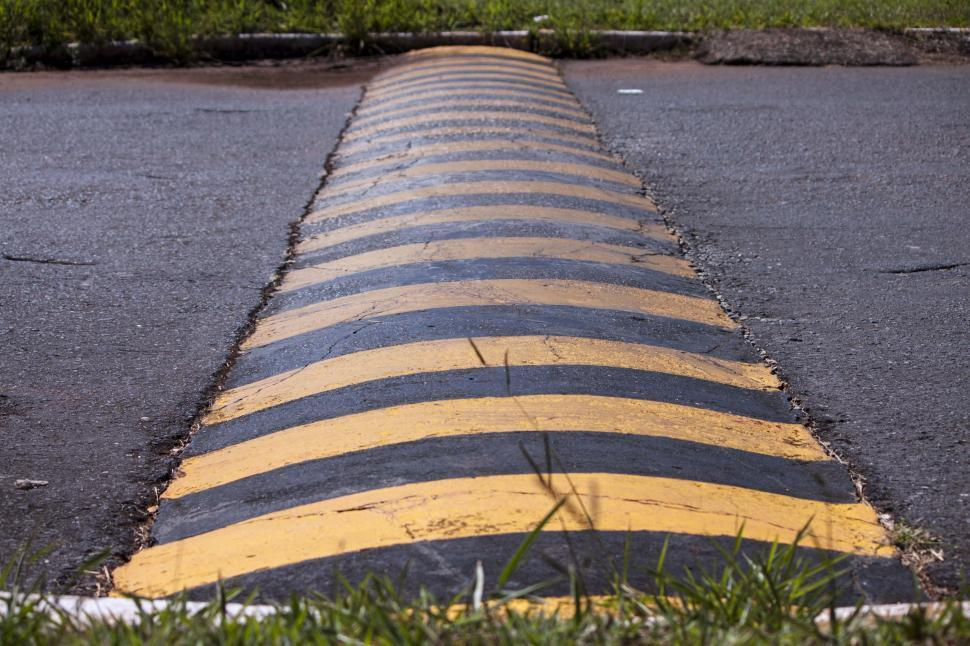speedbreaker: (135, 40, 924, 640)
